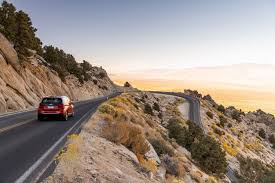car: (36, 96, 74, 120)
